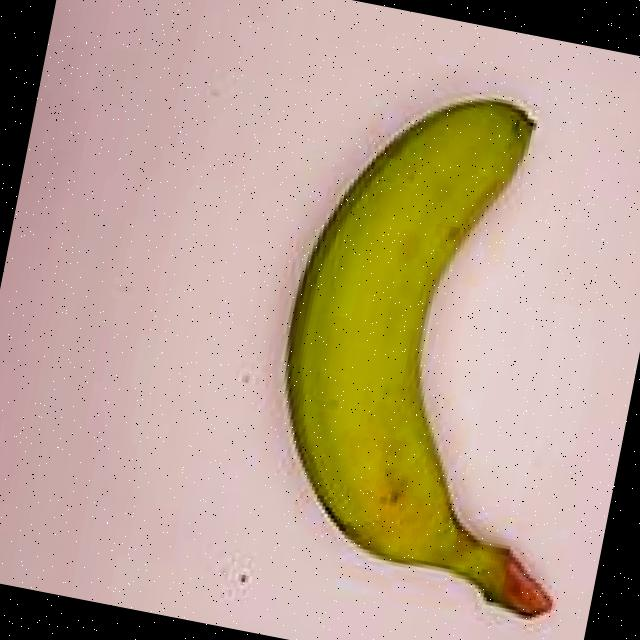Unripe: (182, 17, 640, 640)
